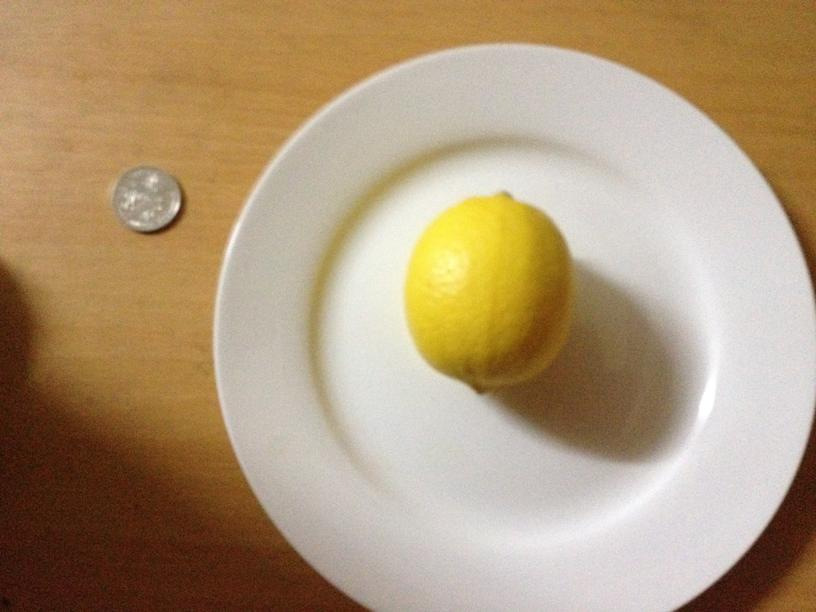coin: (112, 163, 183, 233)
lemon: (406, 188, 574, 389)
